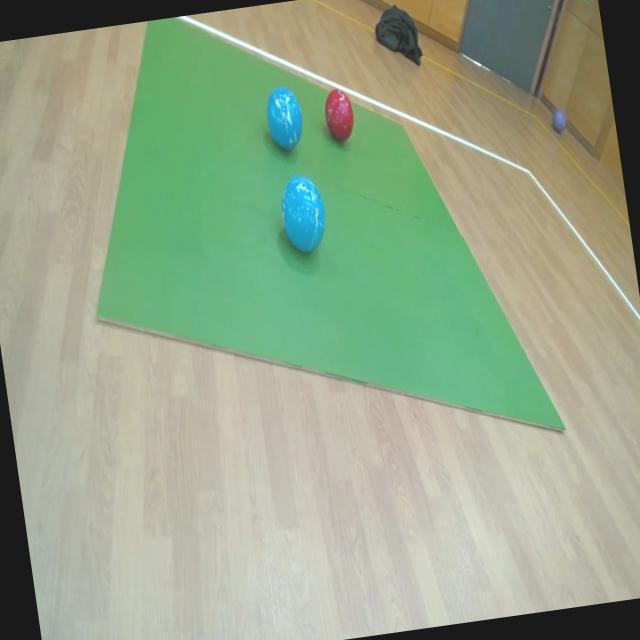blue_ball: (275, 174, 332, 264), (260, 82, 310, 156)
purple_ball: (548, 104, 570, 136)
red_ball: (321, 86, 357, 144)
